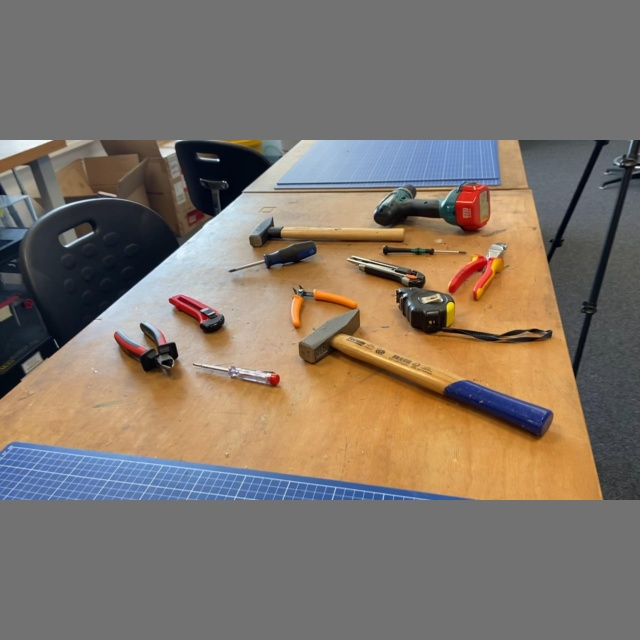drill: (371, 180, 494, 234)
screwdriver: (225, 238, 319, 274), (188, 360, 283, 389), (380, 244, 472, 258)
